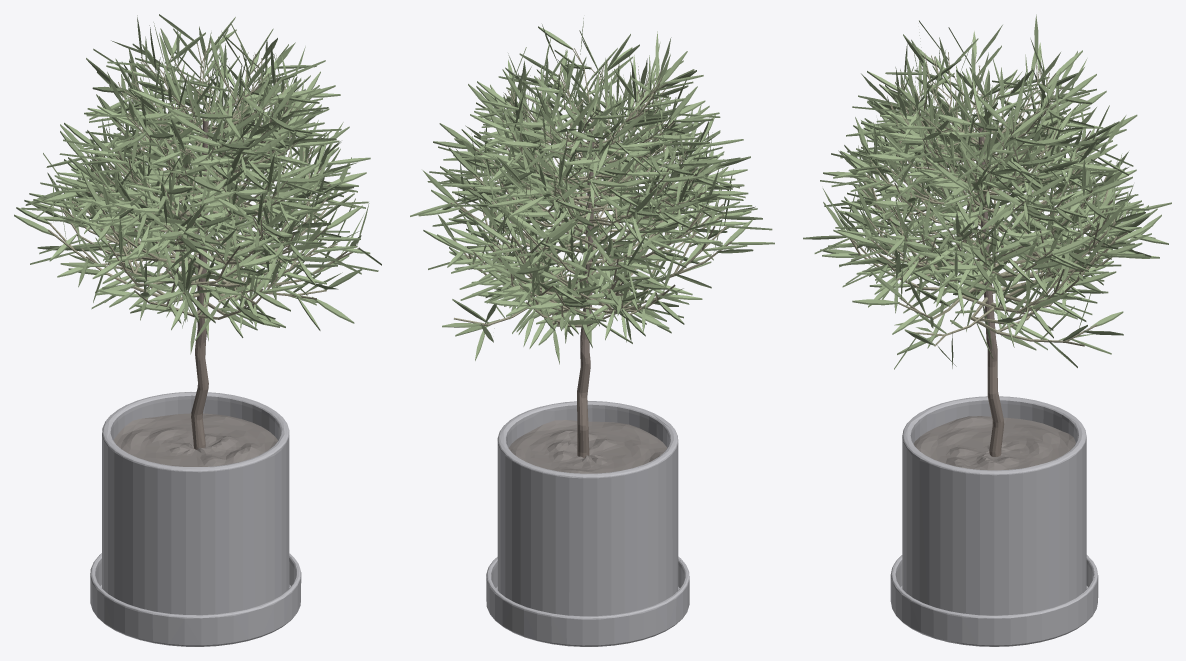
Rendered from b0-decorativeplant.glb.
The picture shows the model from 3 angles, left to right: view 1: azimuth 30°, elevation 25°; view 2: azimuth 150°, elevation 25°; view 3: azimuth 270°, elevation 25°; orthographic projection. The views are drawn at different scales.
Parts seen in each view (by area): view 1: leaves, Pot_Untitled.003, tree_Mesh, Ground_Untitled.004; view 2: leaves, Pot_Untitled.003, tree_Mesh, Ground_Untitled.004; view 3: leaves, Pot_Untitled.003, tree_Mesh, Ground_Untitled.004.
Part boxes in pixels (left/top/right/bottom): leaves: left=14, top=14, right=381, bottom=354; Pot_Untitled.003: left=90, top=392, right=301, bottom=646; tree_Mesh: left=48, top=41, right=359, bottom=449; Ground_Untitled.004: left=113, top=413, right=277, bottom=466; leaves: left=410, top=18, right=774, bottom=364; Pot_Untitled.003: left=486, top=401, right=689, bottom=646; tree_Mesh: left=450, top=48, right=731, bottom=457; Ground_Untitled.004: left=508, top=420, right=666, bottom=473; leaves: left=803, top=14, right=1171, bottom=369; Pot_Untitled.003: left=890, top=396, right=1098, bottom=646; tree_Mesh: left=849, top=52, right=1128, bottom=456; Ground_Untitled.004: left=913, top=416, right=1075, bottom=470.
Size of the model in its own units: 0.559 by 1.03 by 0.602.
